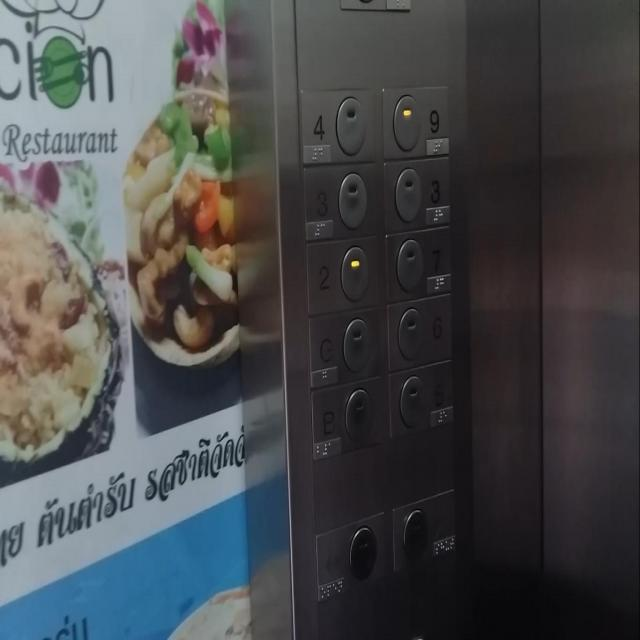2: (303, 235, 386, 313)
3: (300, 161, 384, 243)
4: (298, 84, 382, 164)
5: (387, 361, 459, 442)
6: (385, 289, 458, 375)
7: (384, 219, 456, 305)
8: (379, 159, 456, 237)
9: (379, 81, 455, 162)
B: (308, 372, 390, 462)
G: (306, 304, 388, 394)
empty: (315, 512, 392, 605), (392, 488, 462, 572)
